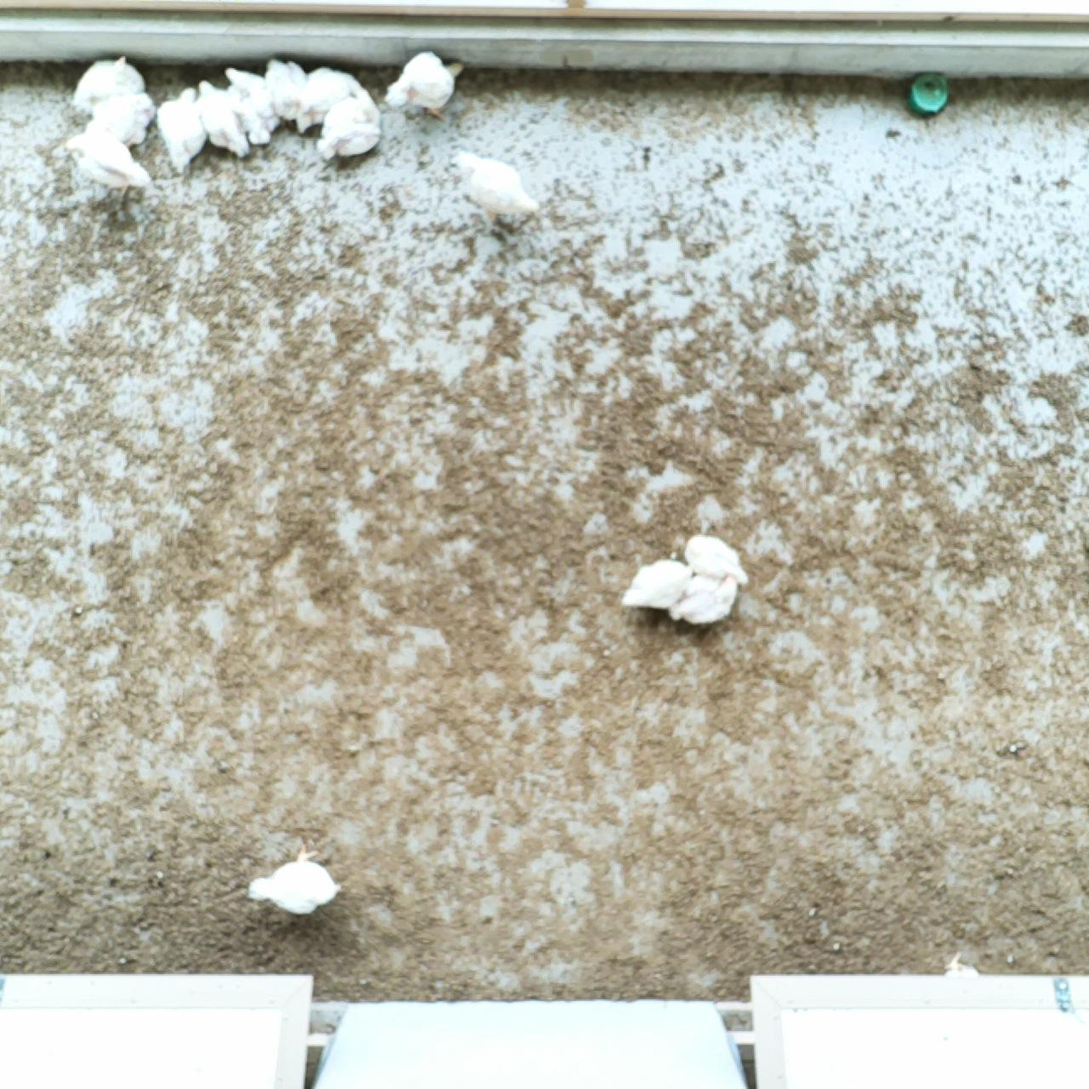chicken: (243, 843, 343, 922), (448, 147, 543, 228), (377, 48, 470, 123), (61, 124, 153, 199), (65, 49, 149, 120), (222, 62, 288, 149), (152, 83, 211, 176), (194, 77, 256, 165), (313, 93, 385, 165), (290, 64, 359, 138), (83, 87, 160, 153), (615, 556, 697, 613), (664, 570, 743, 627), (685, 533, 754, 583), (263, 53, 309, 127)
